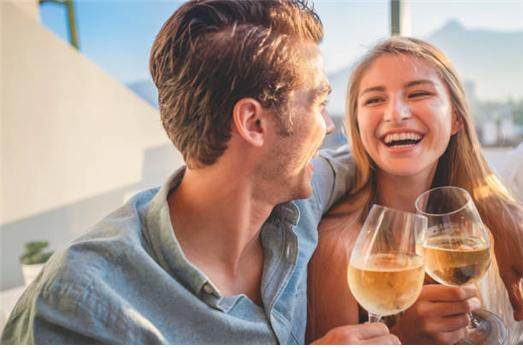alcohol: (415, 186, 490, 344), (344, 205, 426, 328)
